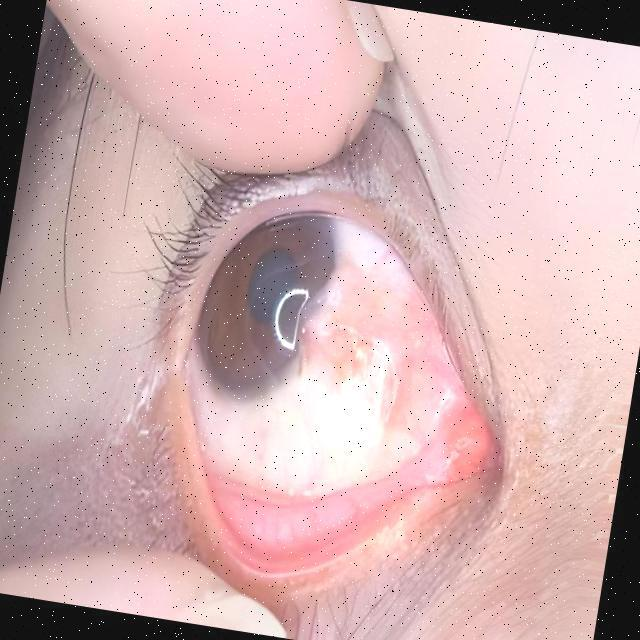Pterygium: (264, 246, 486, 479)
